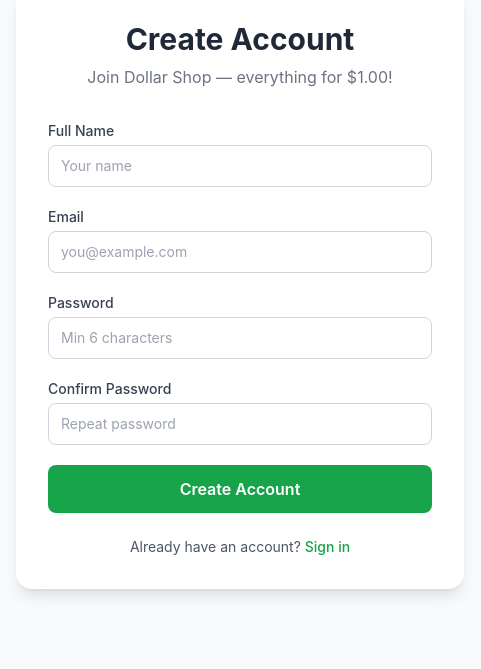
Test case: RegisterPage › displays API error on failed registration
The width and height of the screenshot is (481, 669).
Type "Alice" into the field with placeholder "Your name" at x=240, y=166, box left=48, top=145, right=432, bottom=187
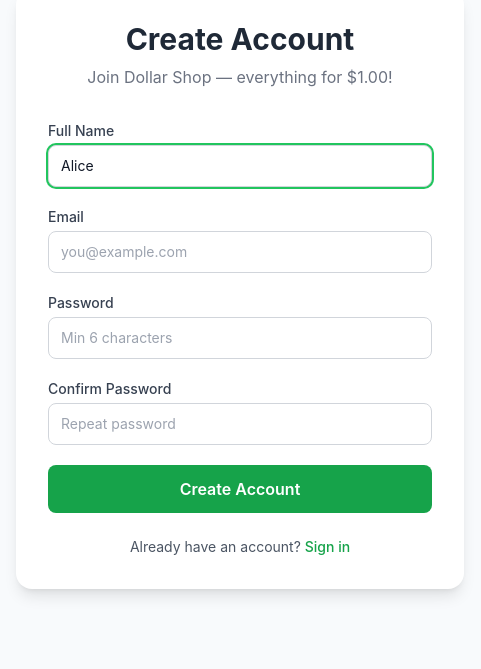
Type "alice@test.com" into the field with placeholder "you@example.com" at x=240, y=252, box left=48, top=231, right=432, bottom=273
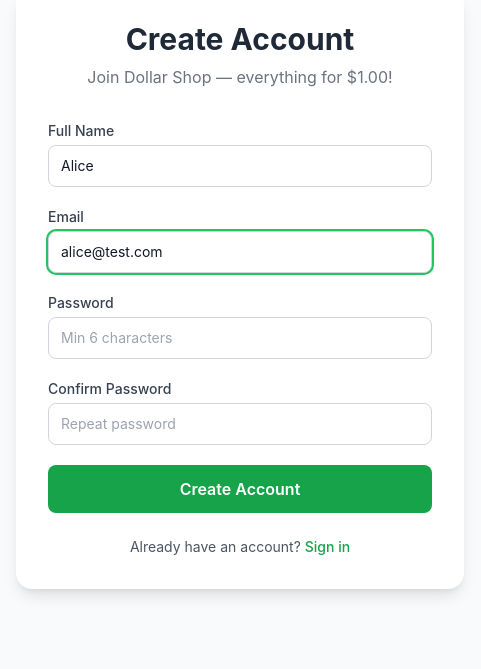
Type "password123" into the password field with placeholder "Min 6 characters" at x=240, y=338, box left=48, top=317, right=432, bottom=359
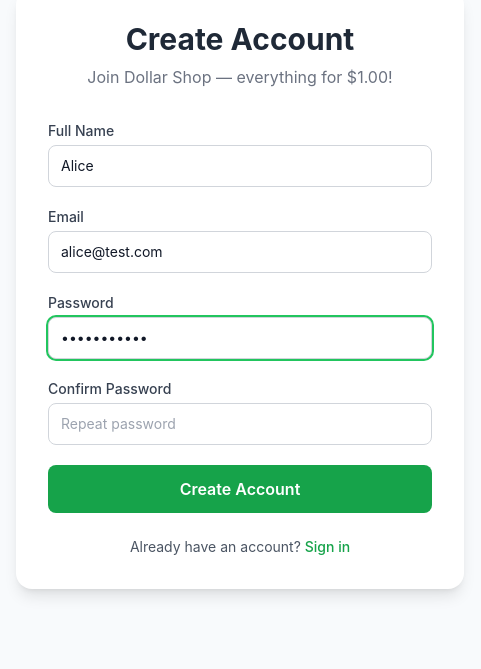
Type "password123" into the password field with placeholder "Repeat password" at x=240, y=424, box left=48, top=403, right=432, bottom=445
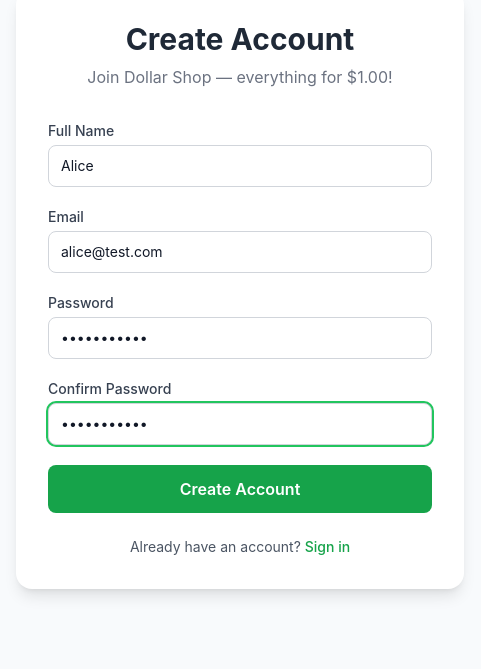
Click the button "Create Account" at x=240, y=489, box left=48, top=465, right=432, bottom=513
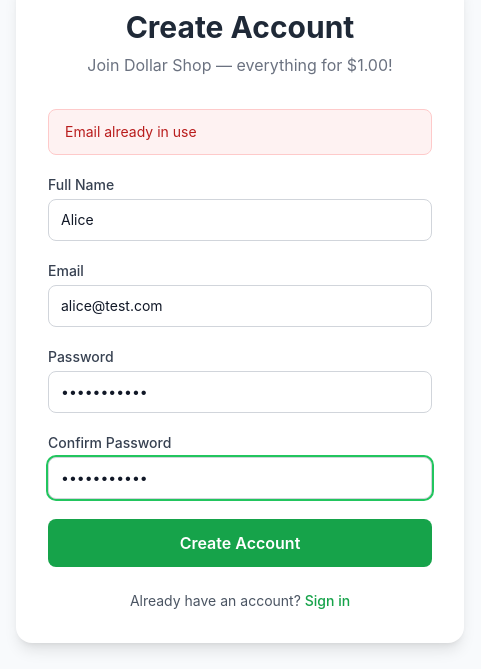
Result: the text "Email already in use" is shown at left=48, top=109, right=432, bottom=155
